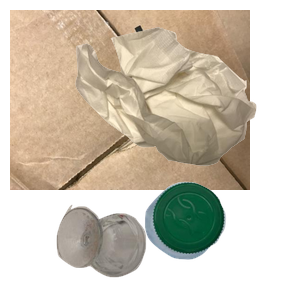cardboard: (10, 10, 250, 190)
glass: (54, 202, 193, 300)
plastic: (142, 179, 300, 300)
trash: (73, 25, 300, 183)
